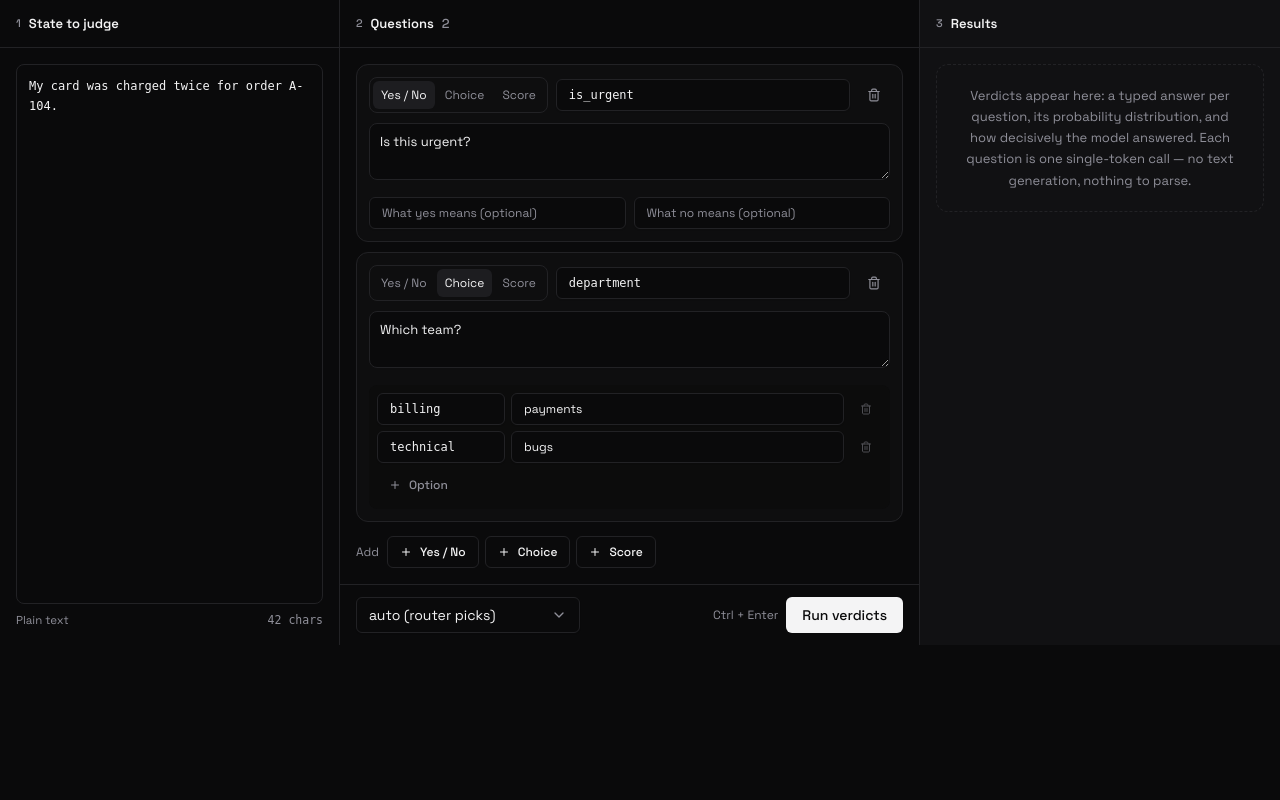
Test: VerdictsWorkspace › shows the gateway's error message when the relay rejects the request
Click the button with aria-label "Run verdicts" at [845, 615], box [786,597,903,633]
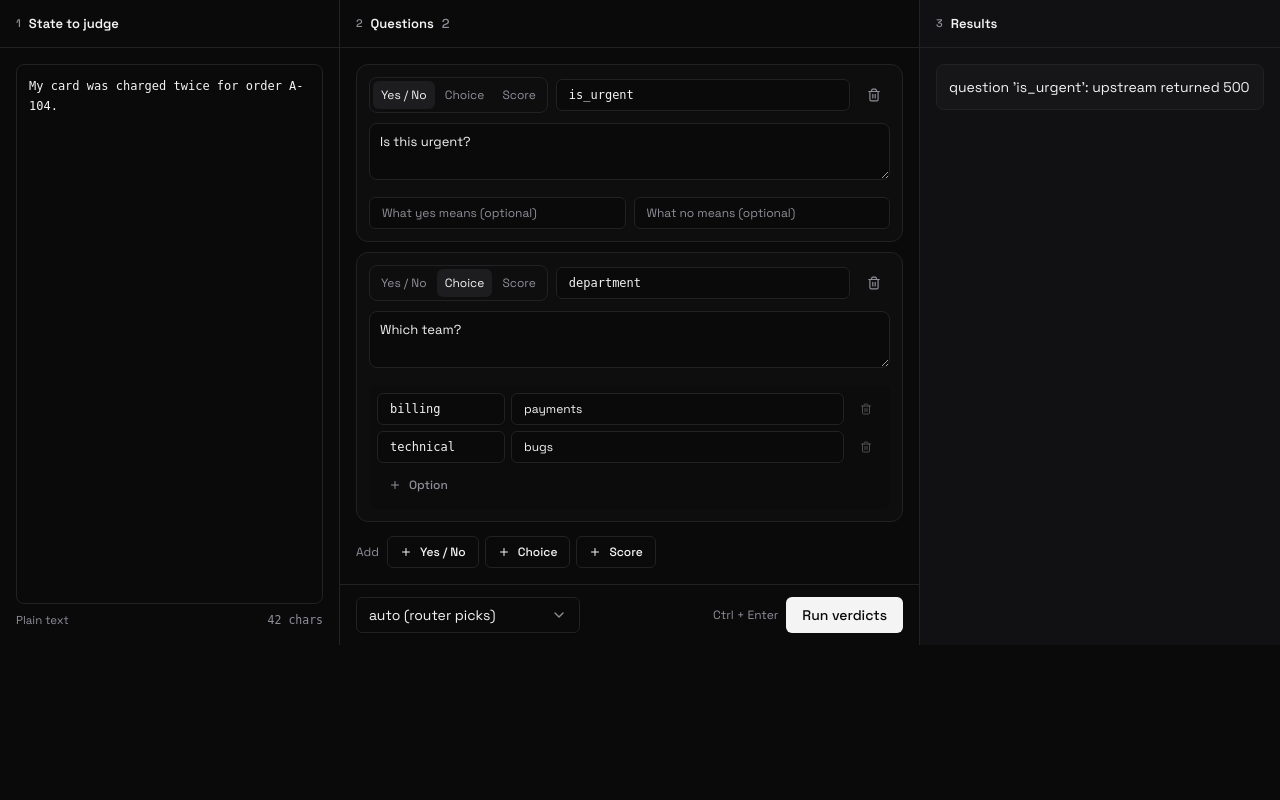
Expected: the message "question 'is_urgent': upstream returned 500" is shown, [936,64,1264,110]
